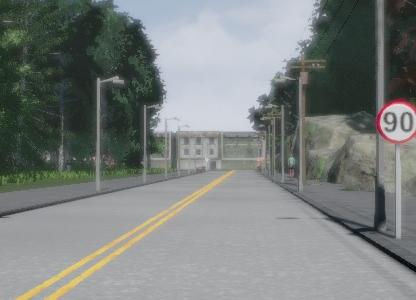Speed_90: (374, 98, 416, 145)
